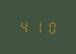four: (18, 19, 29, 33)
one: (31, 19, 42, 34)
zero: (43, 20, 54, 34)
